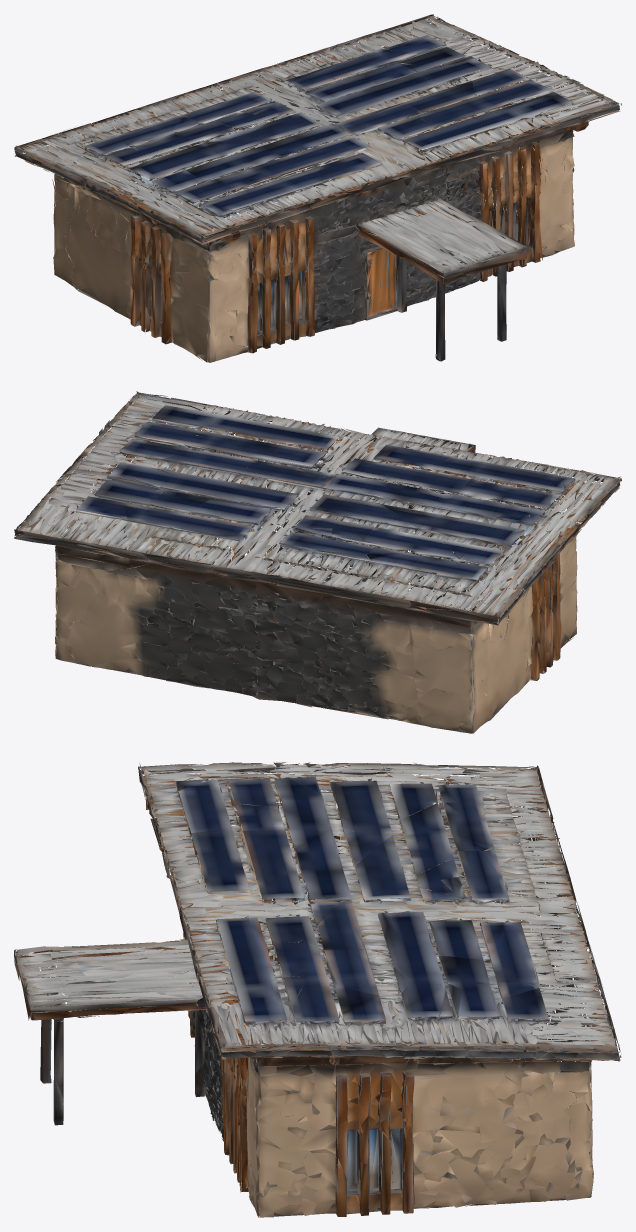
Rendered from fbo.glb.
3 views of the same model, one above another, from view 1: azimuth 30°, elevation 25°; view 2: azimuth 150°, elevation 25°; view 3: azimuth 270°, elevation 25° (orthographic). The views are drawn at different scales.
Visible parts, largest first — view 1: LO.001; view 2: LO.001; view 3: LO.001.
Boxes of the visible parts, x1=… form: LO.001: x1=14, y1=14, x2=621, y2=362; LO.001: x1=14, y1=391, x2=621, y2=733; LO.001: x1=14, y1=762, x2=621, y2=1217.
Bounding box in the file's own units: 2.03 × 0.6082 × 1.71.
1 material, 1 textured.
